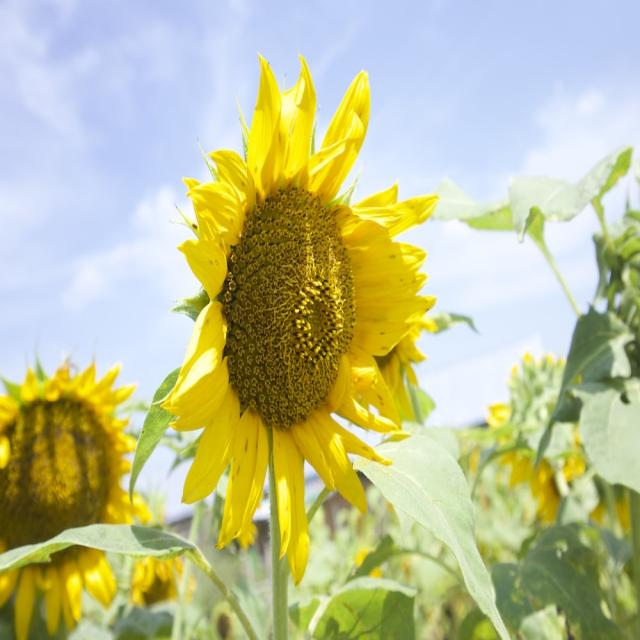sunflower: (150, 43, 454, 599), (0, 345, 143, 639), (496, 328, 588, 474), (489, 446, 585, 536), (116, 529, 190, 614), (208, 600, 250, 640)
